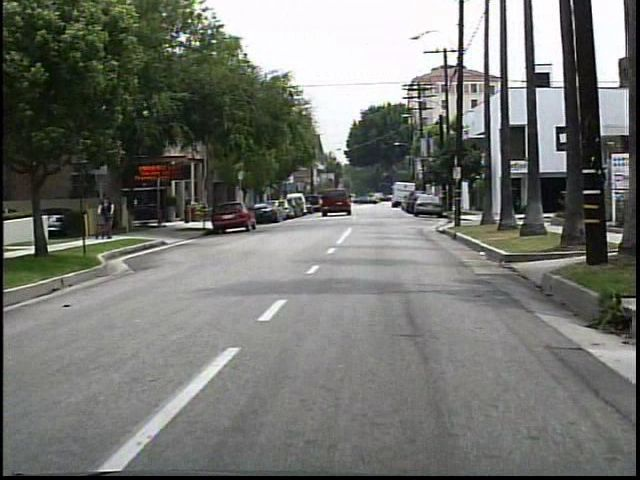person: (93, 193, 118, 243)
